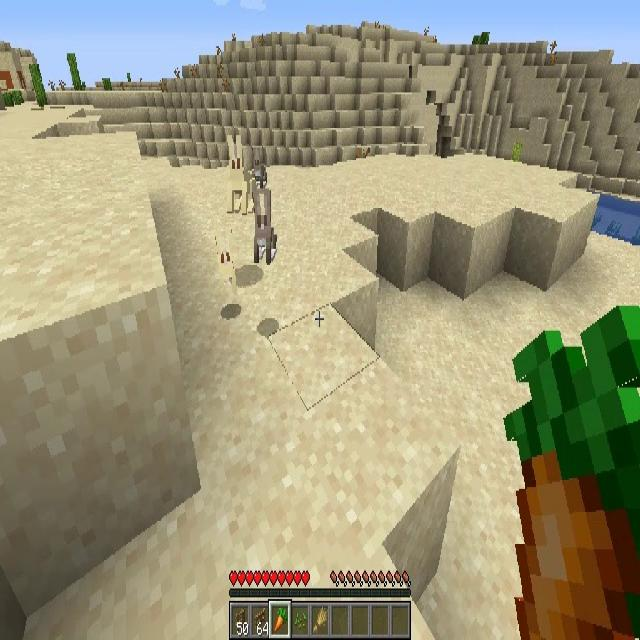rabbit: (227, 135, 252, 209), (254, 191, 277, 265), (218, 241, 236, 308), (252, 146, 268, 190)
